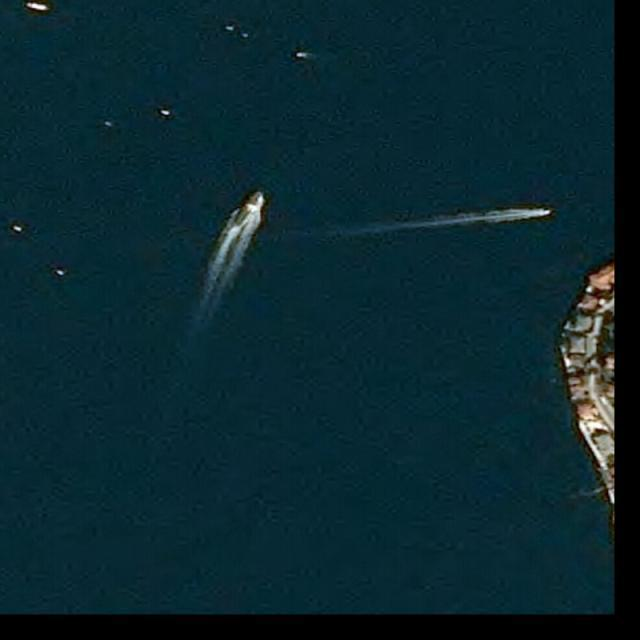ship: (229, 189, 268, 232), (27, 2, 52, 12), (55, 268, 66, 278), (535, 210, 553, 216), (159, 109, 171, 116), (13, 225, 23, 233), (103, 119, 113, 127), (226, 26, 234, 32), (297, 53, 306, 58)
